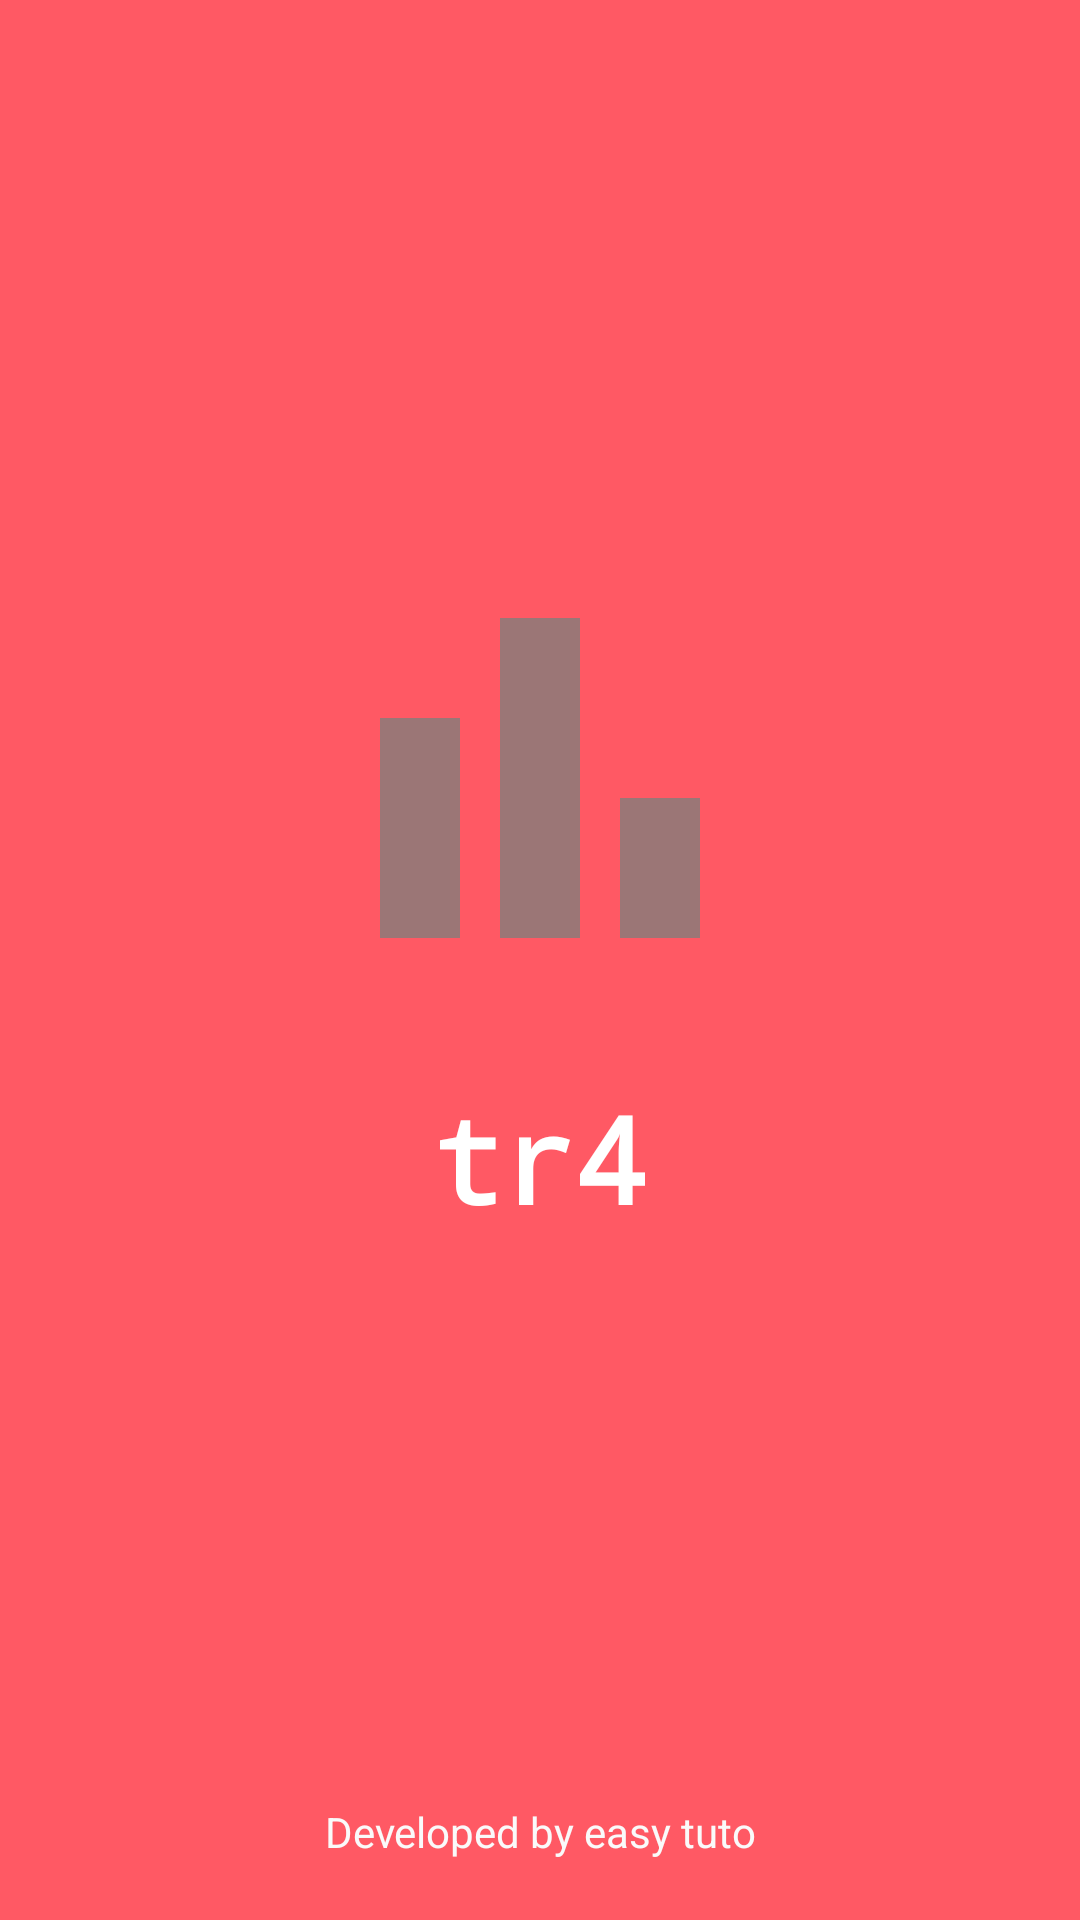

Icon bounding boxes for this 1080px x 1920px phone screenshot, format (x1=x1, y1=y1, x2=x2, y2=y2):
bar chart: (x1=380, y1=618, x2=700, y2=938)
